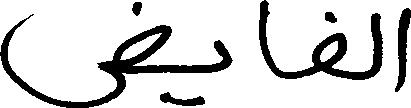X: (0, 9, 131, 107), (311, 7, 344, 82), (395, 3, 410, 96), (258, 0, 270, 73), (371, 8, 382, 81), (216, 35, 230, 76)
